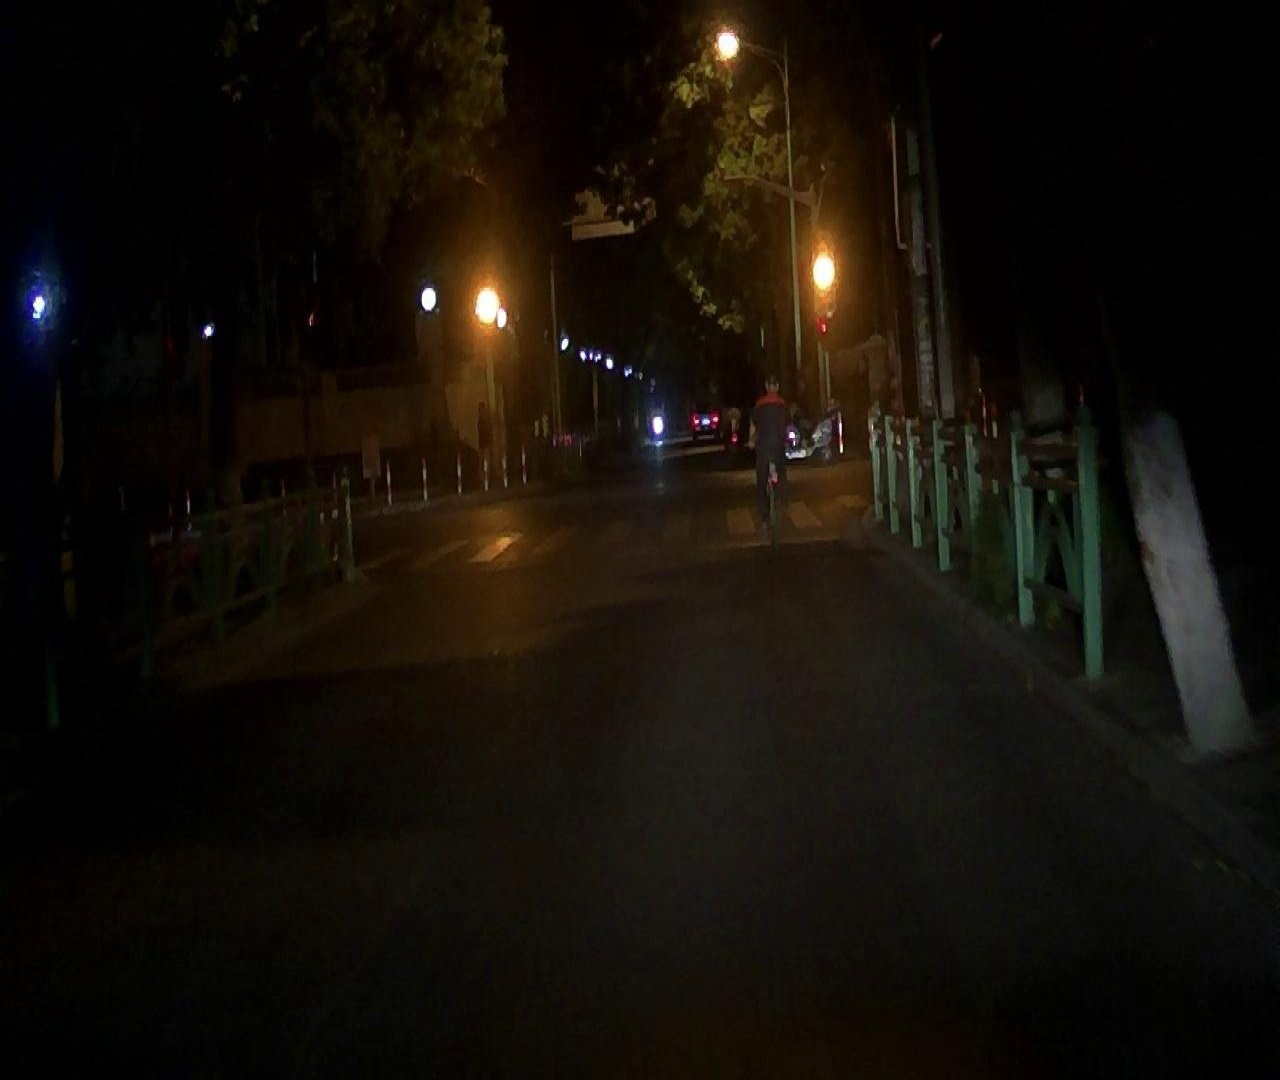yellow: (470, 276, 506, 333), (807, 241, 839, 298)
